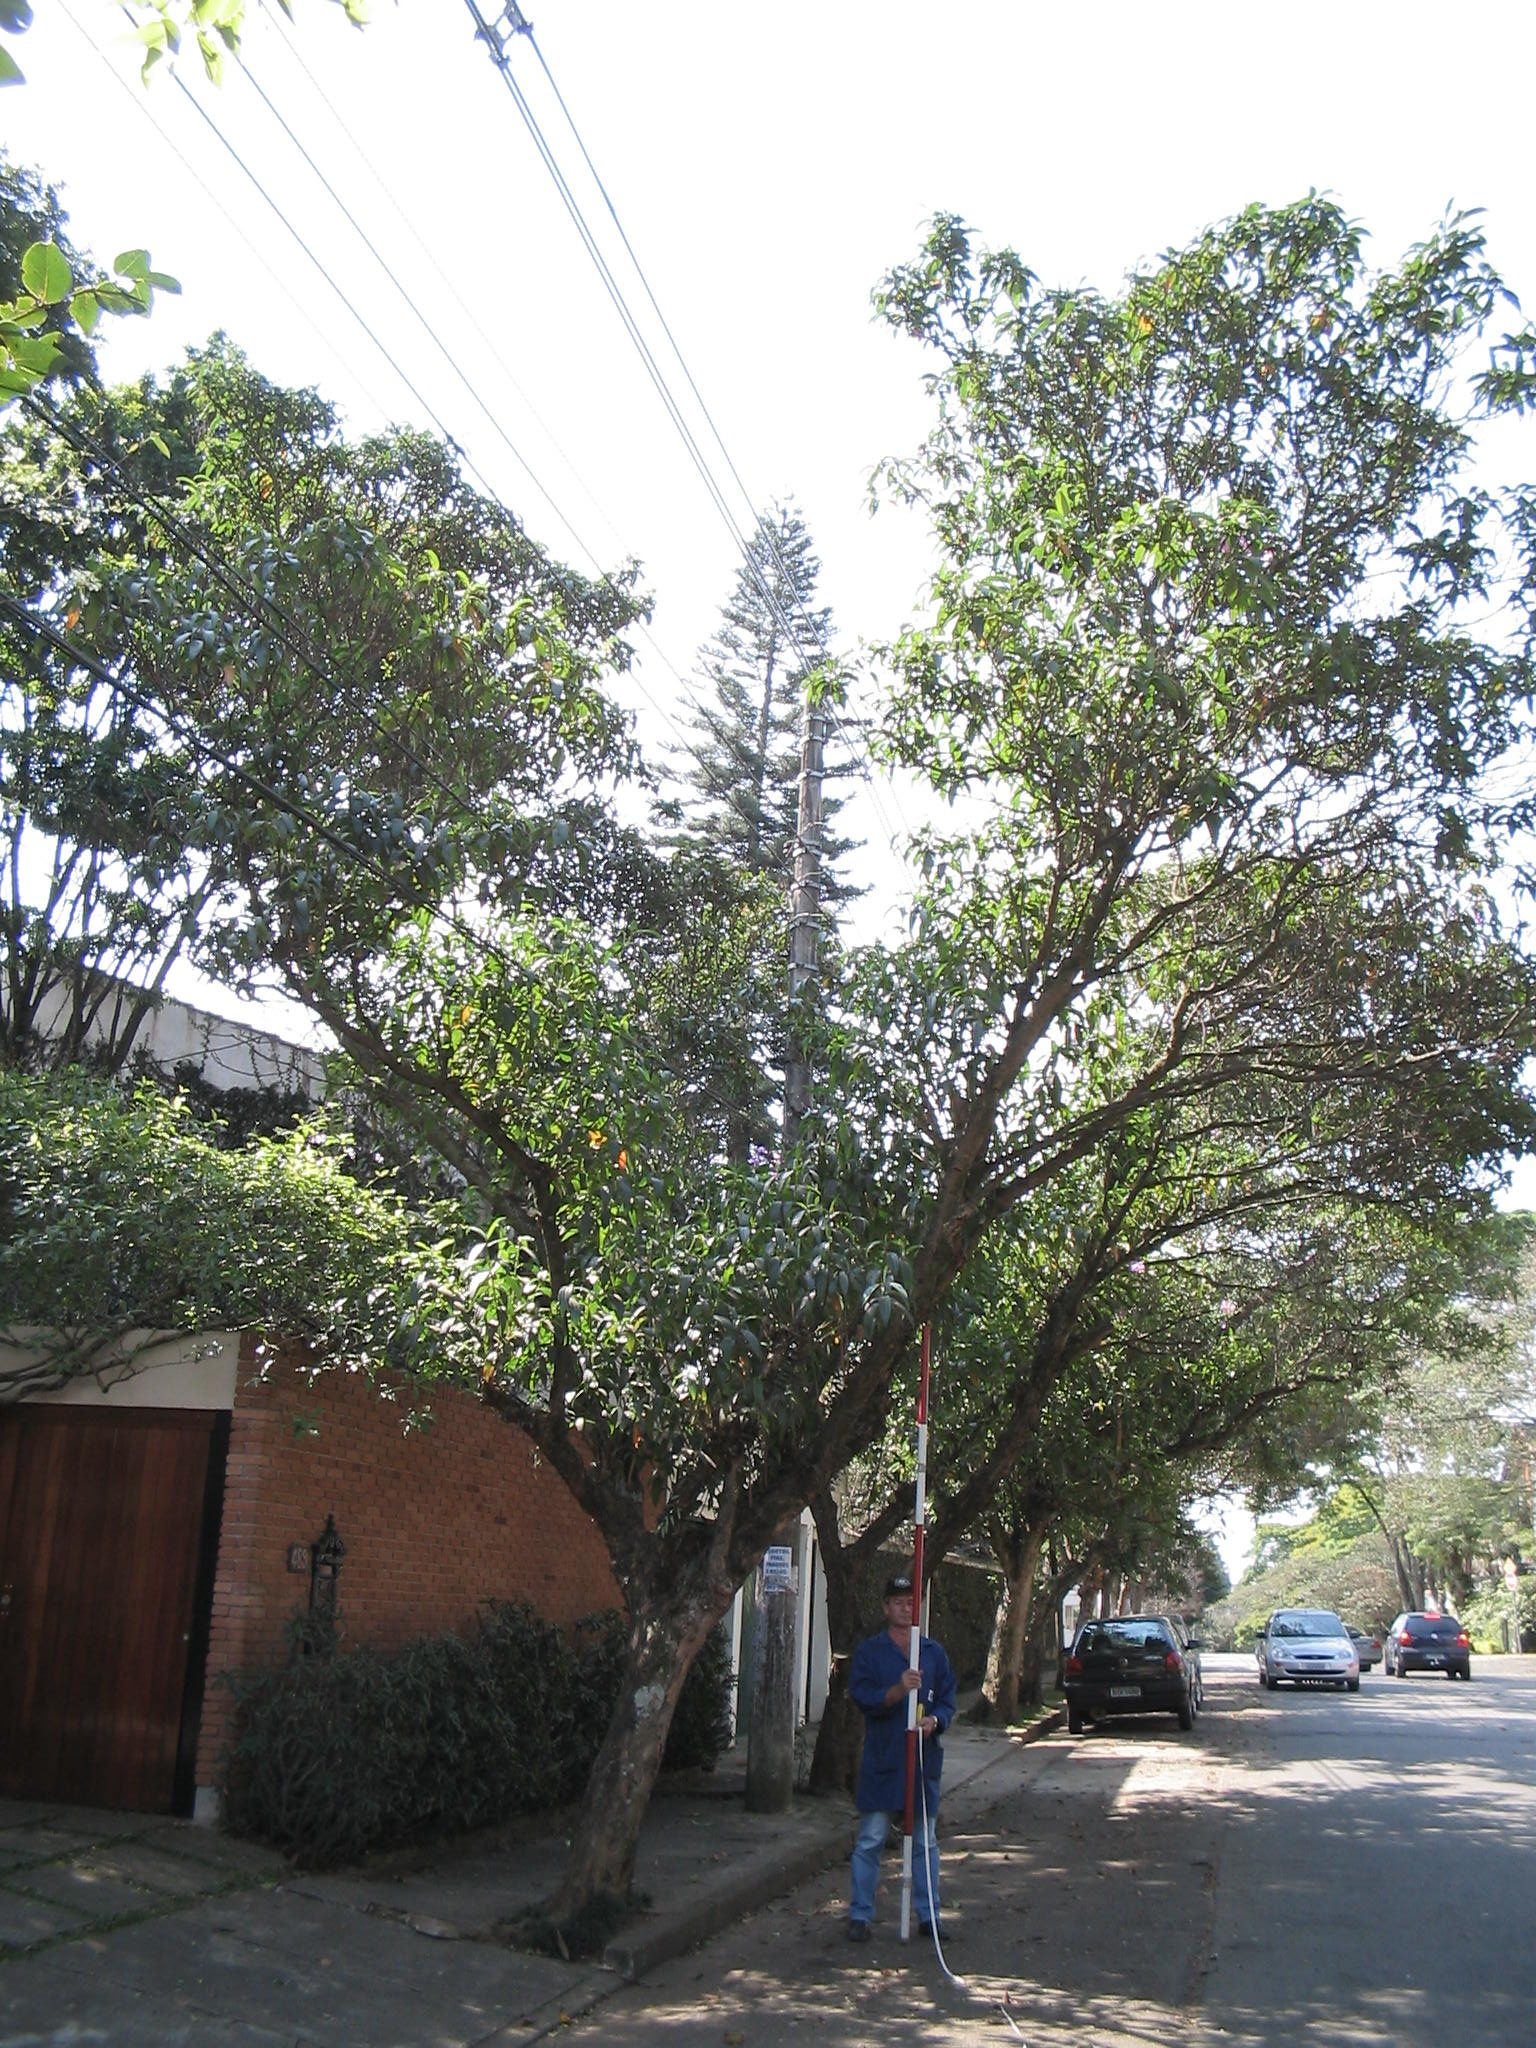crown: (119, 179, 1525, 1463)
stem: (523, 1590, 750, 1942)
stick: (892, 1326, 945, 1937)
tree: (108, 179, 1534, 1946)
